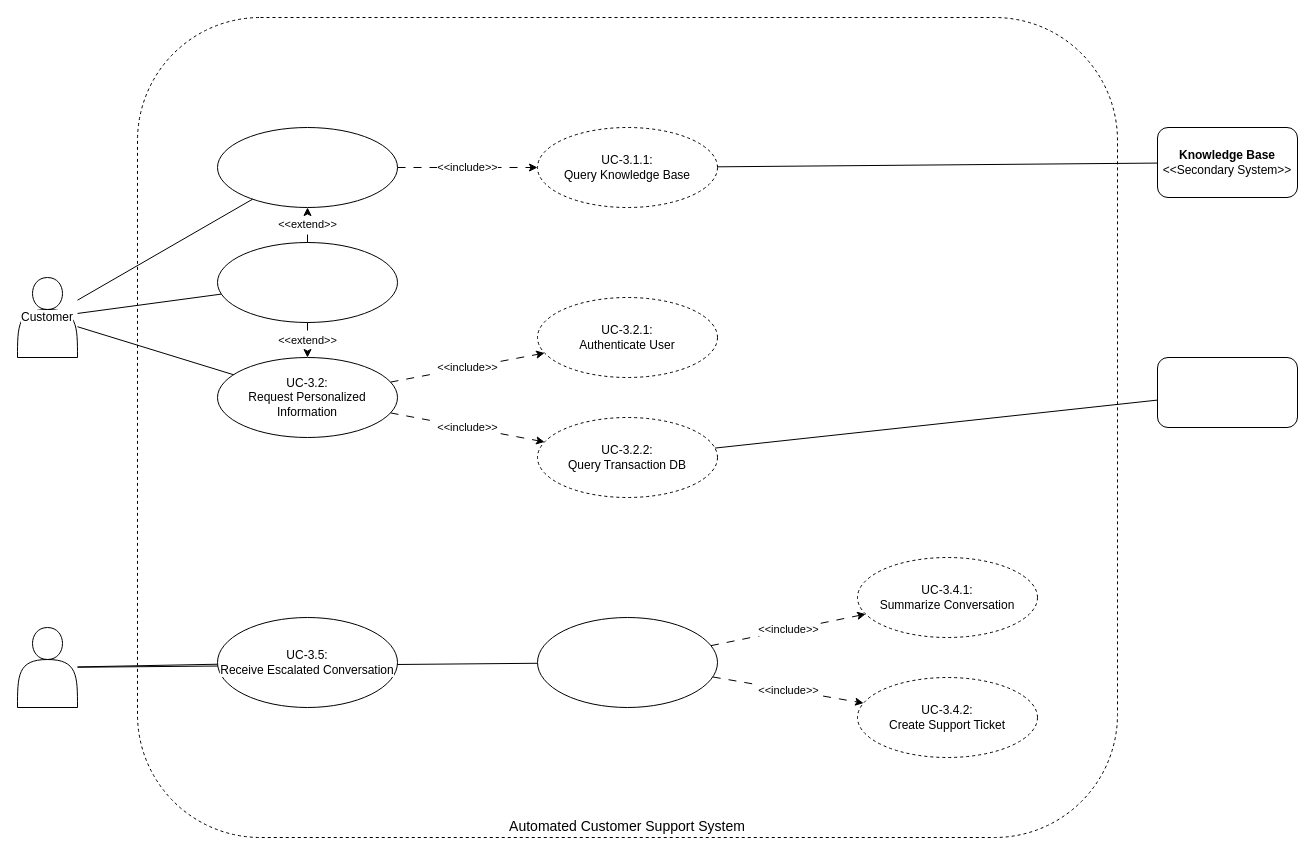
Image size: 1315x855. Some labels were removed from this diagram. The box of each missing label's shape, as (x1, y1, x2, y2) in pixels:
Customer Transaction DB <<Secondary System>>: (1156, 356, 1298, 428)
Support Agent: (16, 626, 78, 708)
UC-3.1: Request General Information: (216, 126, 398, 208)
UC-3.3: Request Human Agent: (216, 242, 398, 322)
UC-3.4: Handle Complex / Complaint Case: (536, 616, 718, 708)
